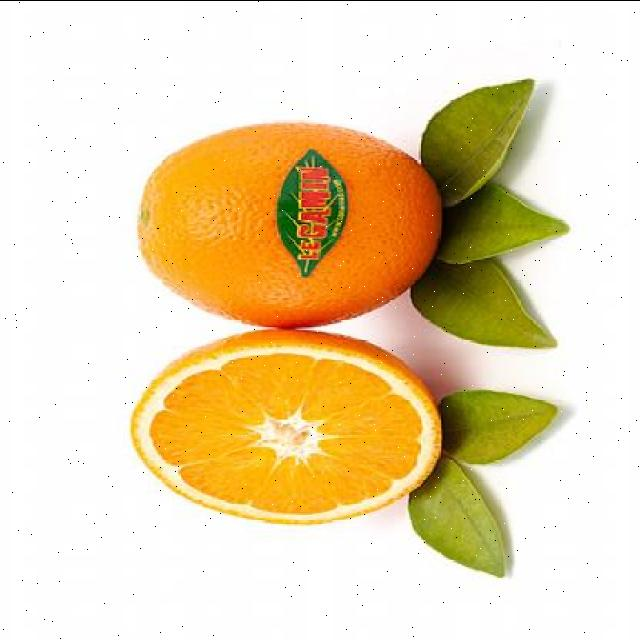Orange: (134, 122, 443, 330), (128, 328, 444, 526)
